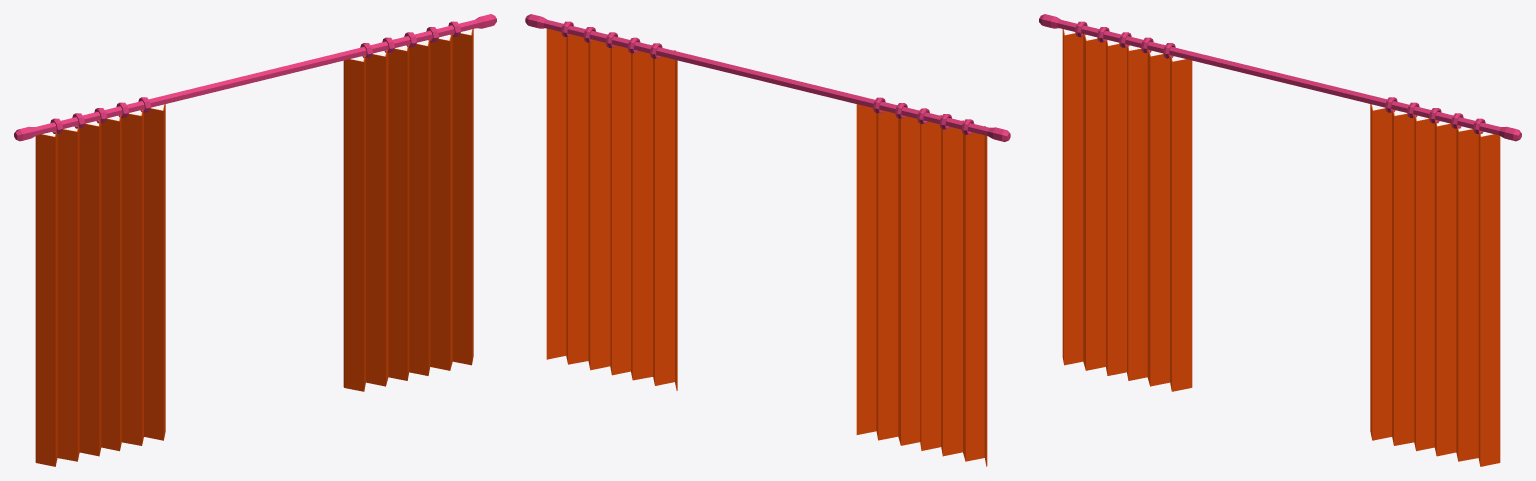
Rendered from Curtains_07.fbx.
3 renders of one model, left to right at view 1: azimuth 30°, elevation 25°; view 2: azimuth 150°, elevation 25°; view 3: azimuth 330°, elevation 25°, orthographic.
Parts seen in each view (by area): view 1: Curtains_07; view 2: Curtains_07; view 3: Curtains_07.
Part boxes in pixels (x1=…): Curtains_07: x1=14, y1=14, x2=496, y2=466; Curtains_07: x1=525, y1=14, x2=1010, y2=466; Curtains_07: x1=1039, y1=14, x2=1521, y2=466.
Size of the model in its own units: 184 by 125 by 8.49.
